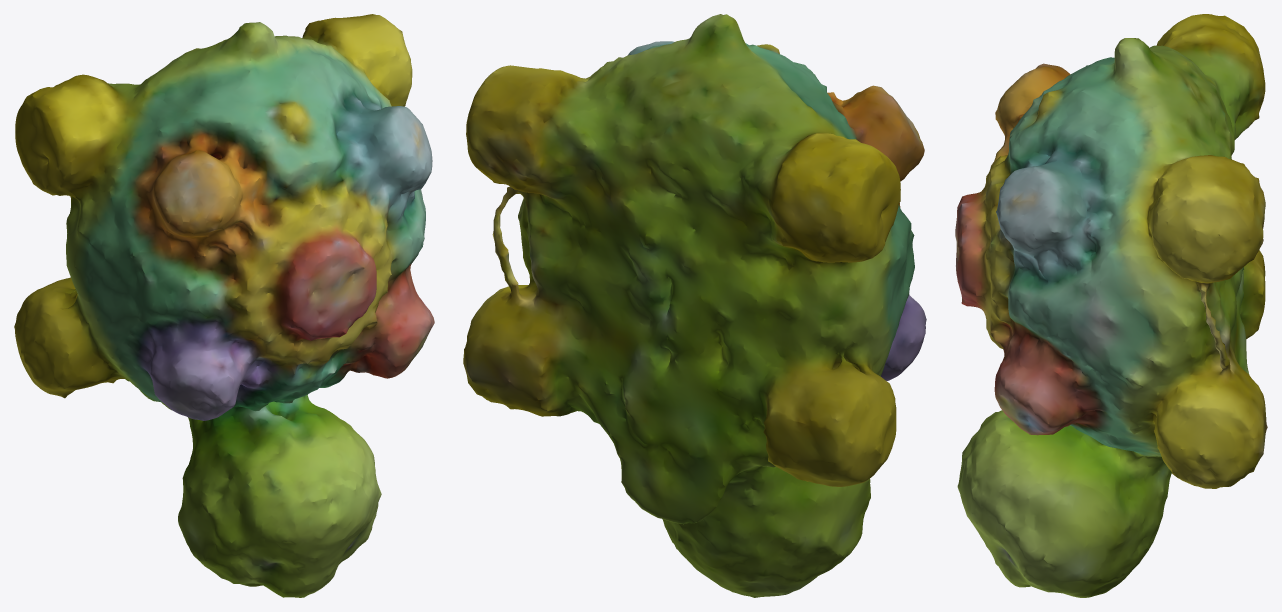
The model's file is turtle.glb.
3 views of the same model, side by side, from view 1: azimuth 30°, elevation 25°; view 2: azimuth 150°, elevation 25°; view 3: azimuth 270°, elevation 25° (orthographic). The views are drawn at different scales.
Size of the model in its own units: 0.7154 by 0.9955 by 0.5078.
